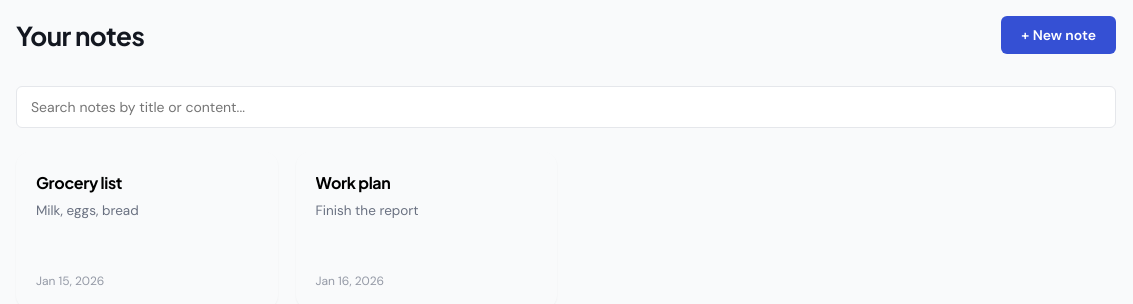
Scenario: Dashboard › filters notes by title as the user types
Expected: the heading "Grocery list" is shown, [36,172,122,193]
In the field labelled "Search notes": (566, 107) [16,86,1116,128], type "grocery"
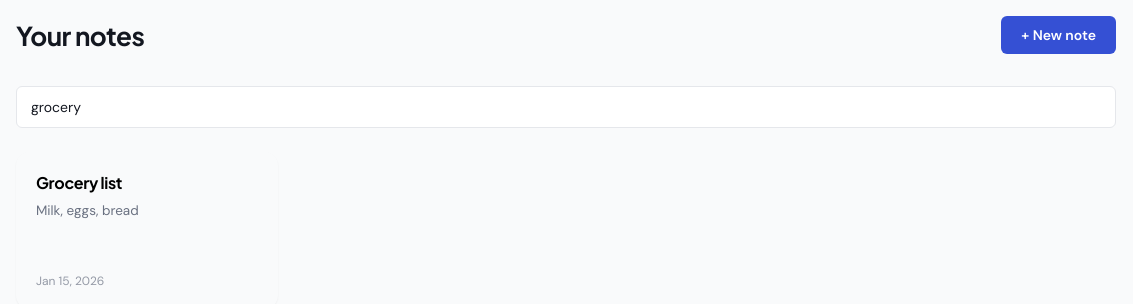
Expected: the heading "Grocery list" is shown, [36,172,122,193]
Expected: the button "Work plan" is gone
